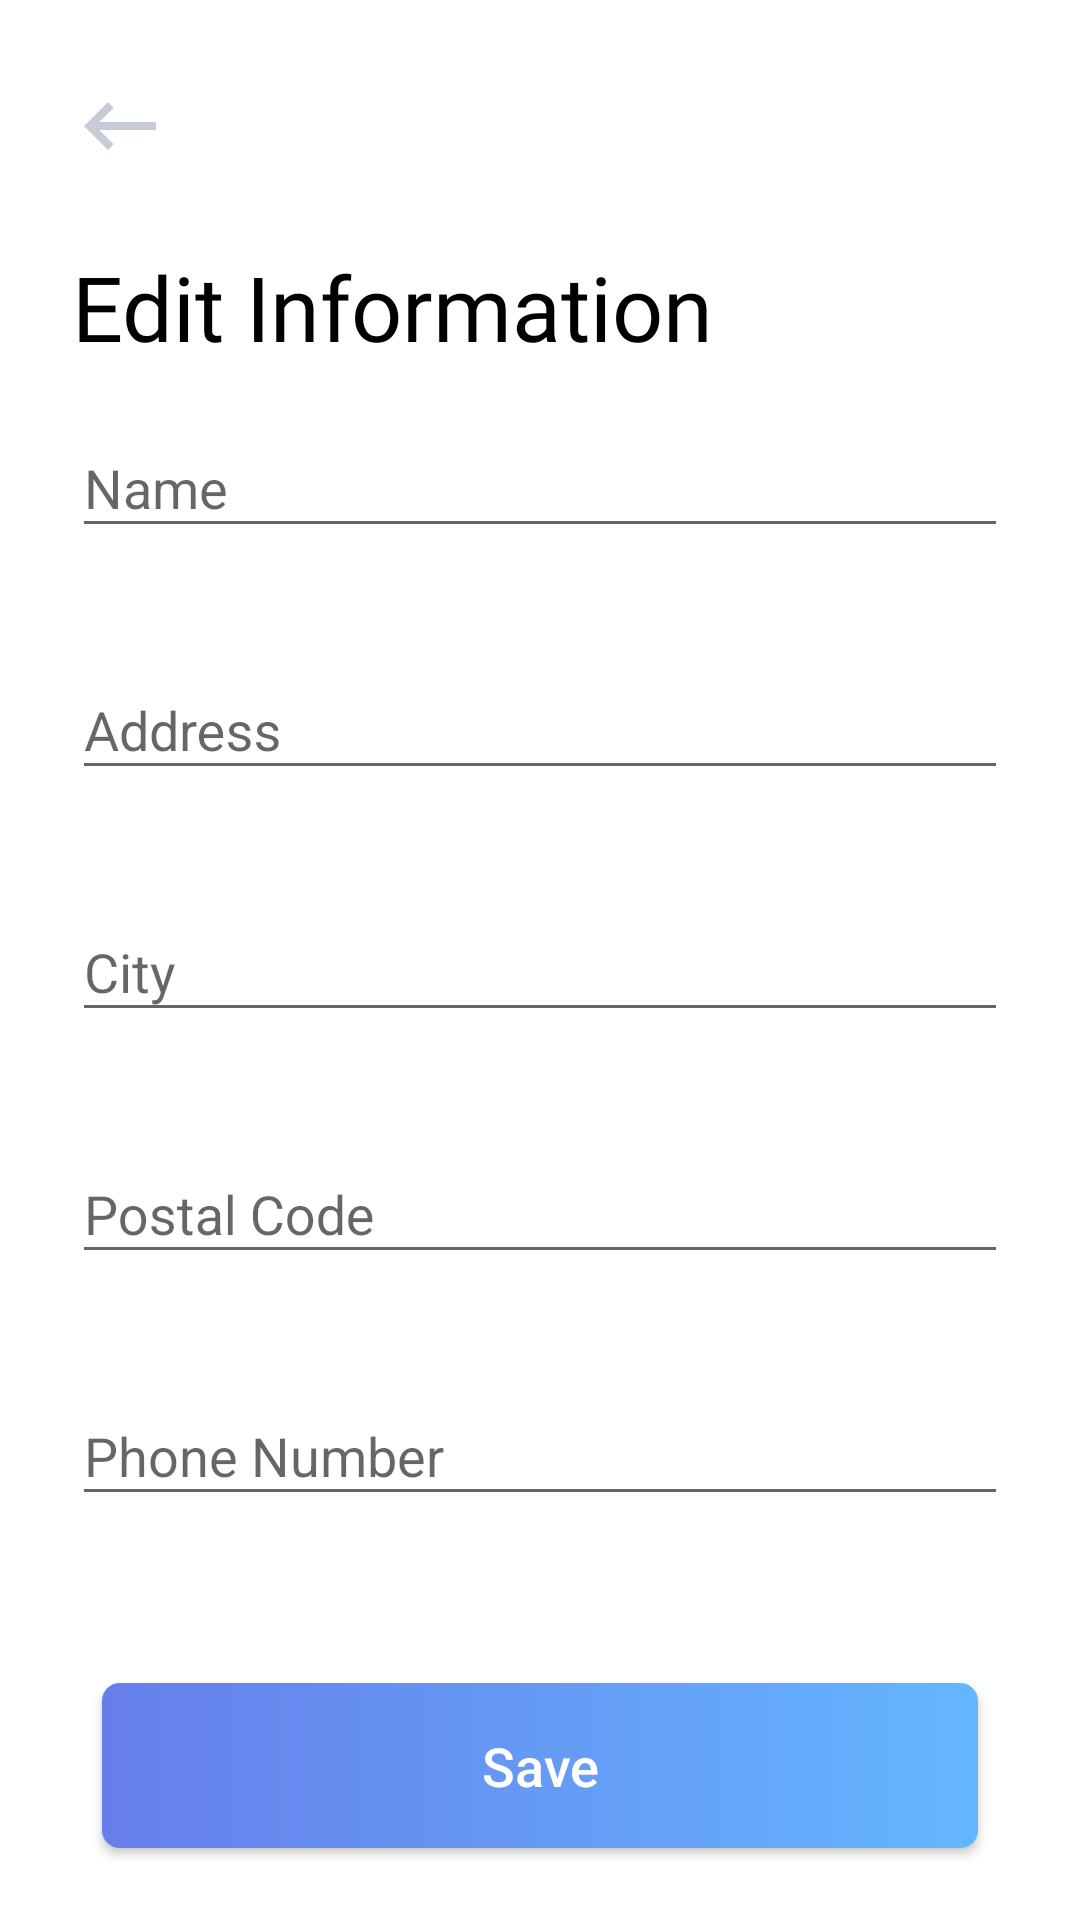

Icon click points for this 1080px×1920px phone screenshot, format [x,y]:
keyboard backspace: [120,126]
